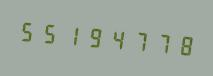eight: (171, 25, 192, 63)
five: (17, 12, 38, 49), (39, 14, 60, 51)
four: (105, 19, 126, 57)
nine: (83, 18, 104, 55)
one: (61, 16, 82, 53)
seven: (127, 21, 148, 59), (149, 23, 170, 61)
